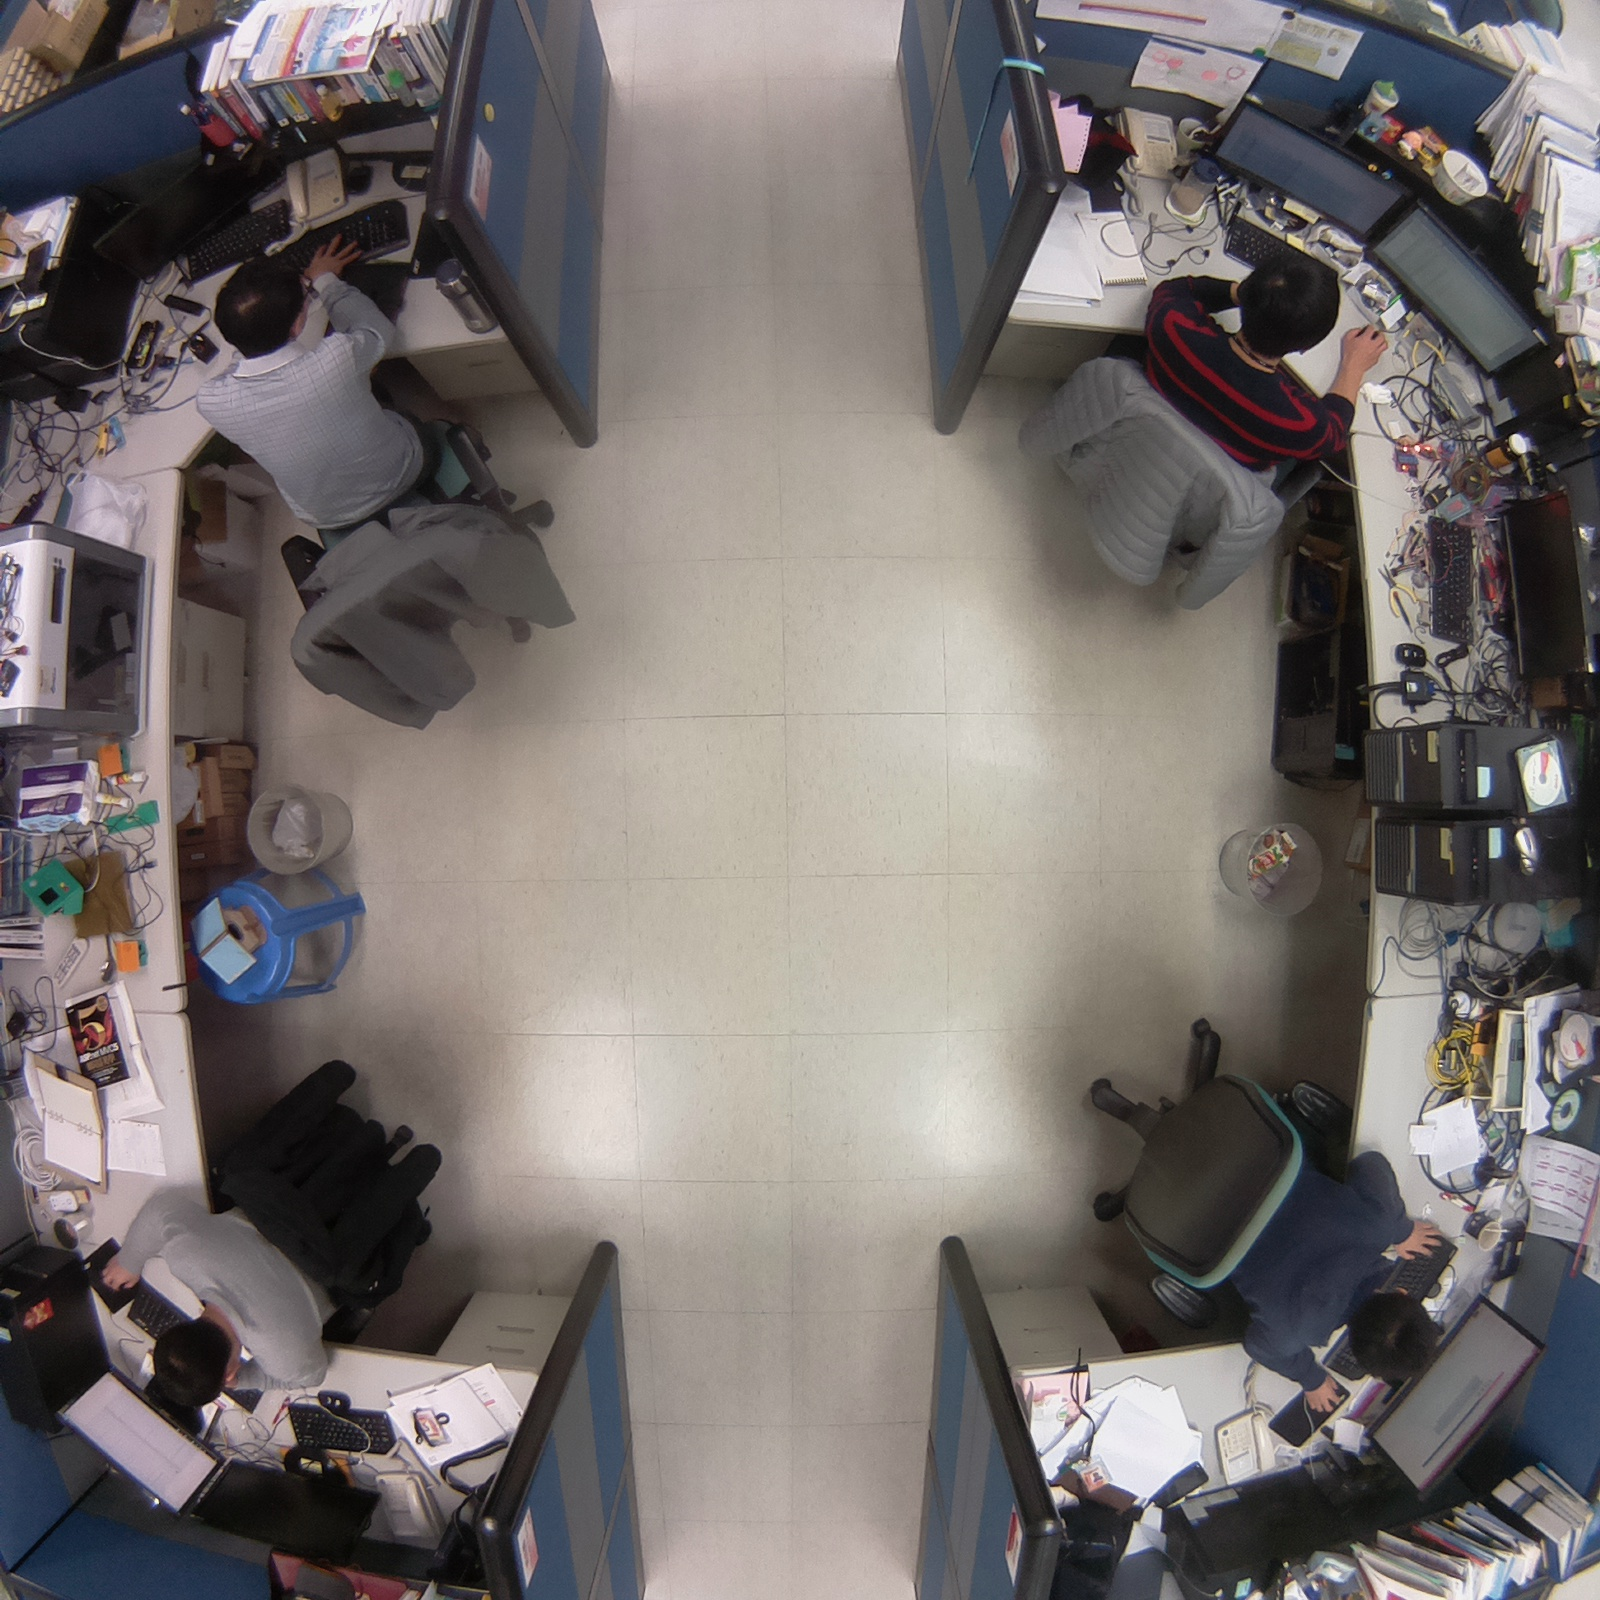head: (1234, 251, 1342, 361), (210, 257, 321, 357), (1344, 1282, 1442, 1393), (140, 1310, 238, 1417)
sitting: (183, 250, 586, 742), (1065, 999, 1458, 1432), (1009, 260, 1406, 632), (106, 1037, 476, 1432)
